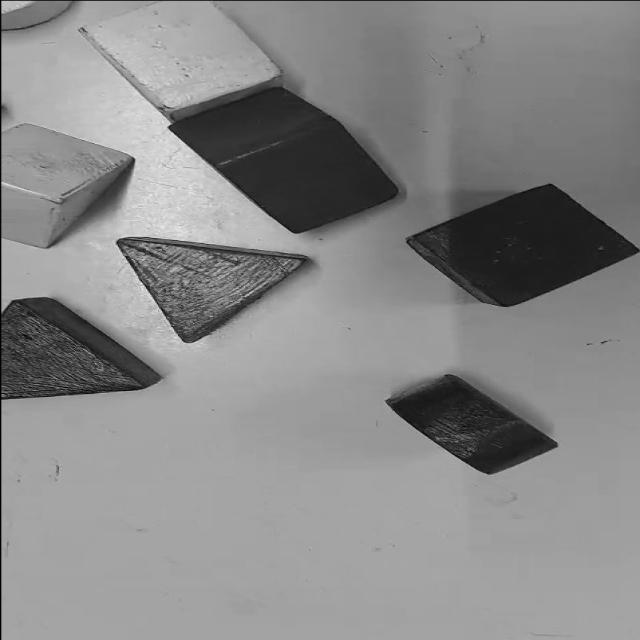bcircle: (387, 374, 554, 473)
bcube: (409, 186, 636, 306)
btriangle: (0, 297, 163, 398)
rcube: (168, 88, 400, 234)
rtriangle: (117, 238, 311, 343)
ycircle: (1, 0, 76, 31)
ycube: (78, 1, 285, 121)
ytriangle: (0, 125, 136, 248)
